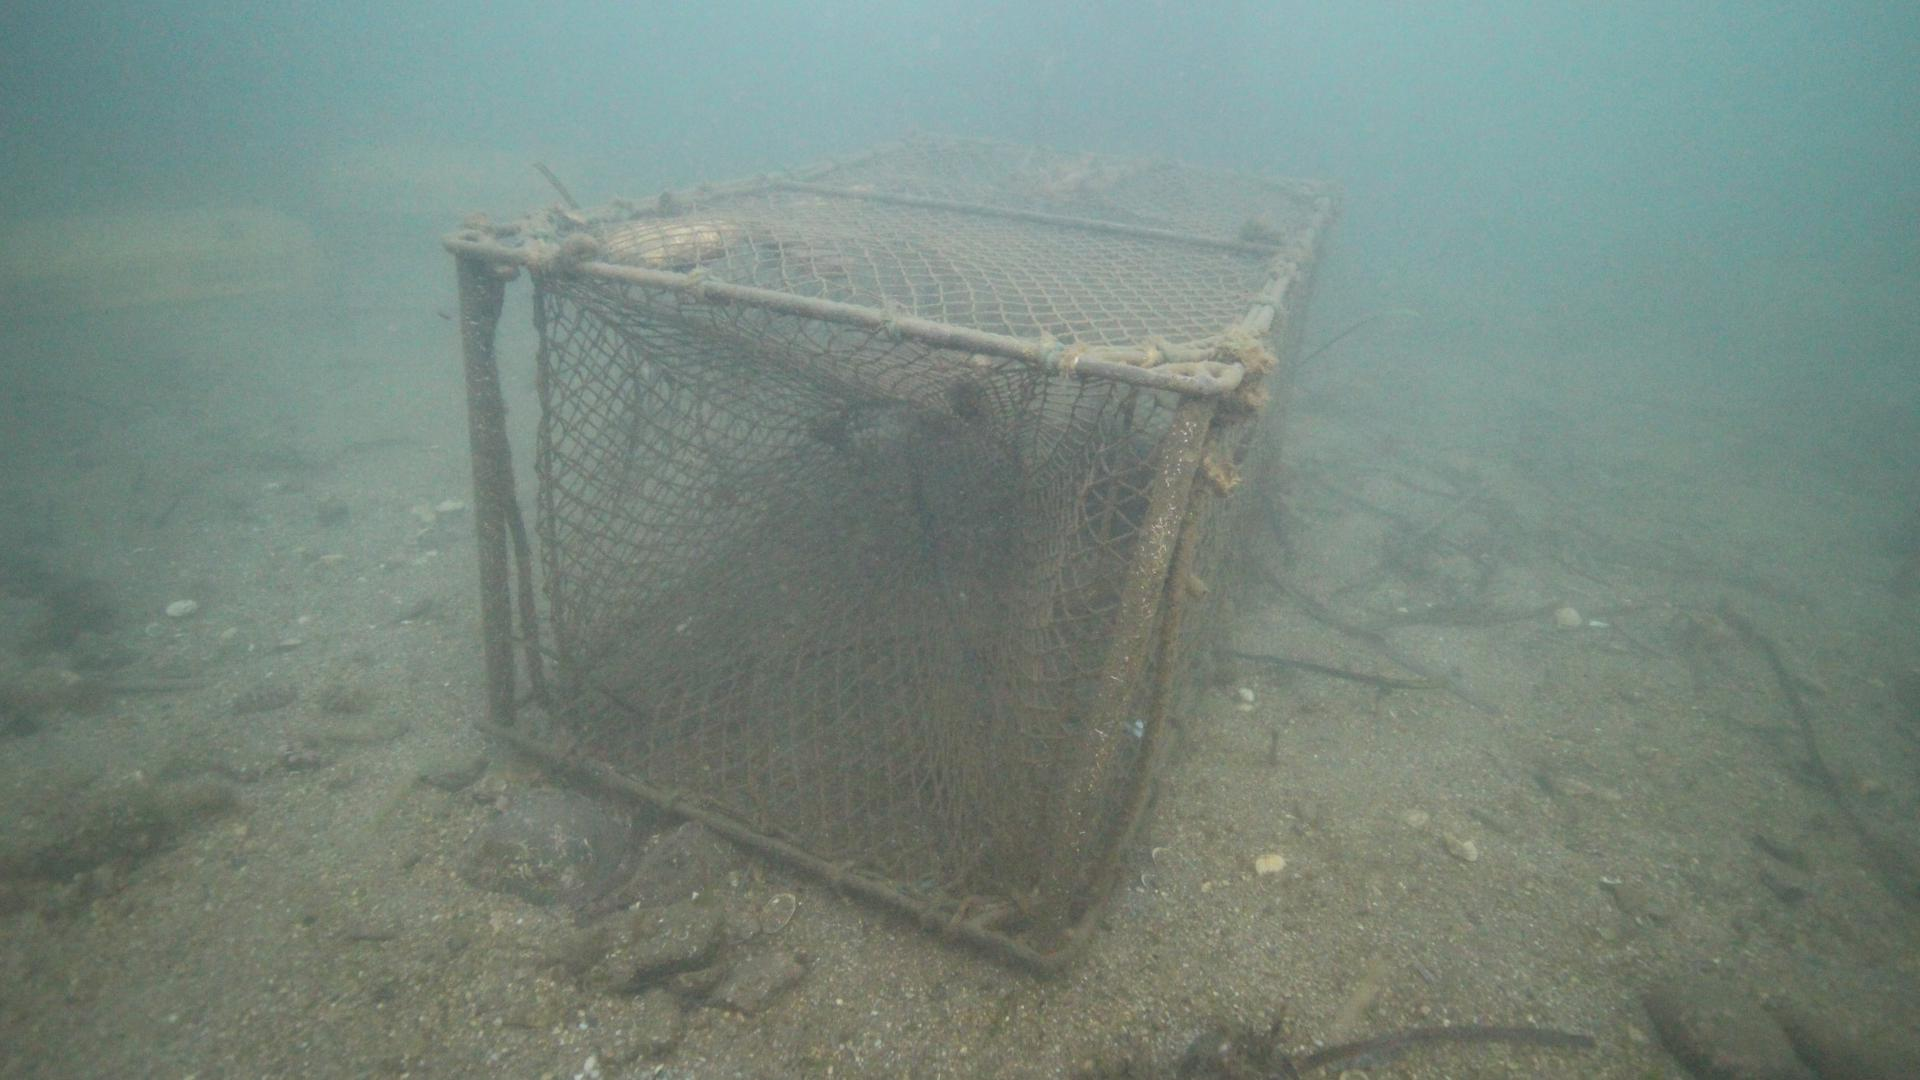rectangular fish trap: (438, 123, 1346, 980)
